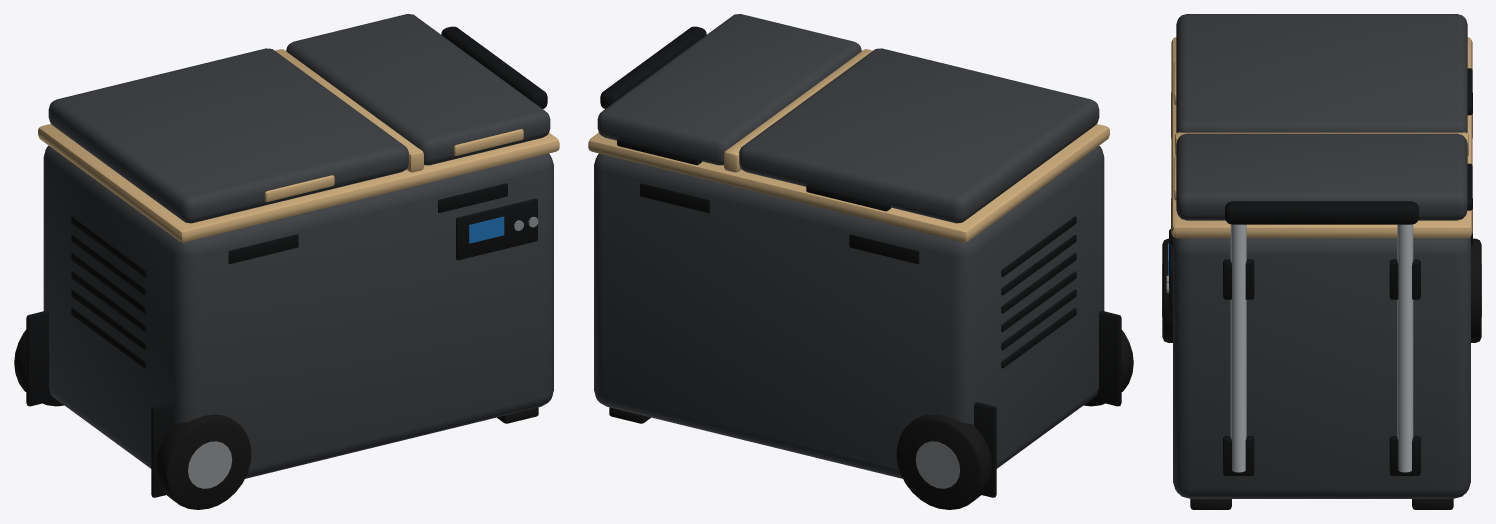
The model's file is g_cooler45.glb.
3 views of the same model, side by side, from view 1: azimuth 30°, elevation 25°; view 2: azimuth 150°, elevation 25°; view 3: azimuth 270°, elevation 25° (orthographic). The views are drawn at different scales.
Visible parts, largest first — view 1: g_cooler45; view 2: g_cooler45; view 3: g_cooler45.
Boxes of the visible parts, box(x1,y1,x2,y2) form: g_cooler45: box(14, 14, 559, 509); g_cooler45: box(588, 14, 1133, 509); g_cooler45: box(1162, 14, 1481, 509).
Size of the model in its own units: 0.711 by 0.506 by 0.46.
